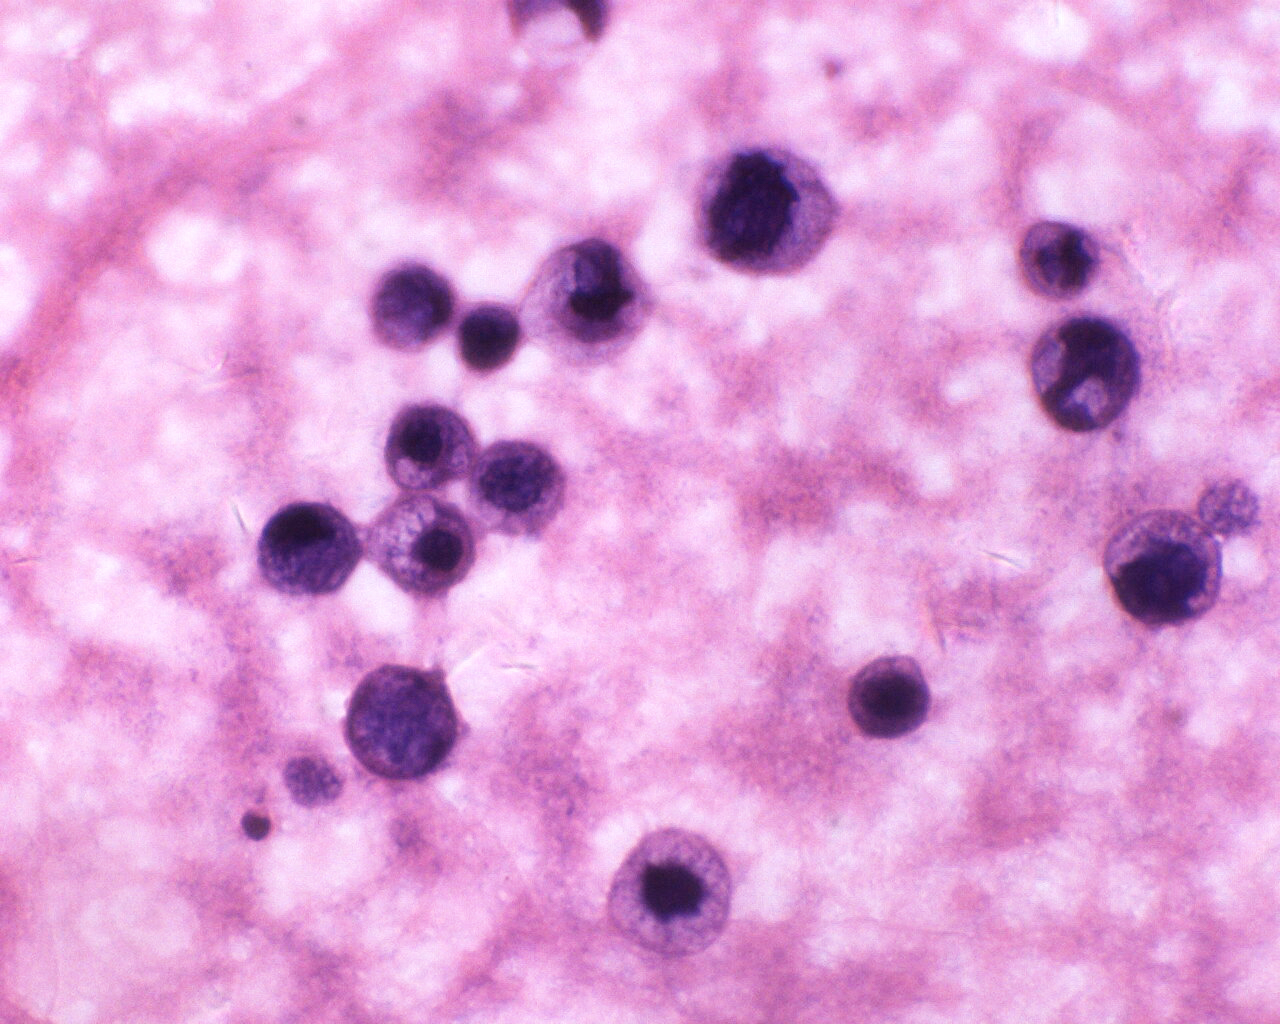ab: (696, 137, 843, 282), (608, 821, 737, 959), (1027, 308, 1154, 445), (1102, 506, 1227, 629), (256, 495, 364, 604), (370, 494, 480, 594), (377, 397, 483, 497), (850, 652, 937, 743), (1021, 215, 1111, 299), (450, 299, 529, 375)
